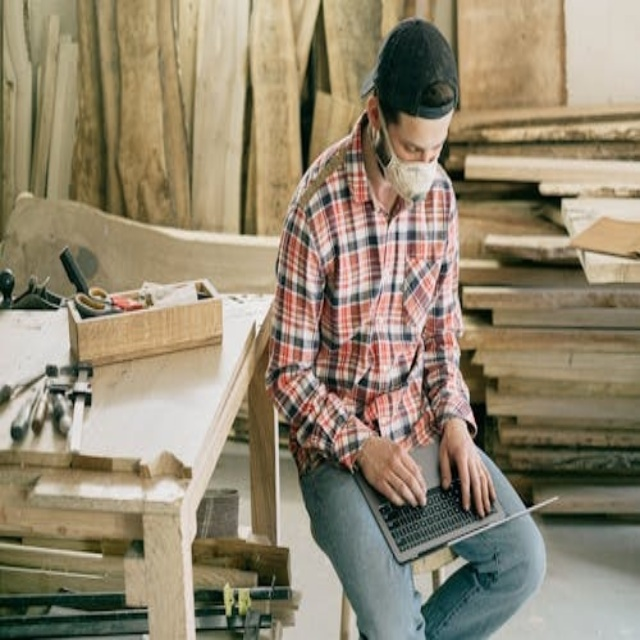Mascara: (375, 114, 439, 204)
Sin_gafas: (392, 129, 449, 160)
Sin_guantes: (357, 433, 429, 510), (438, 424, 496, 518)
